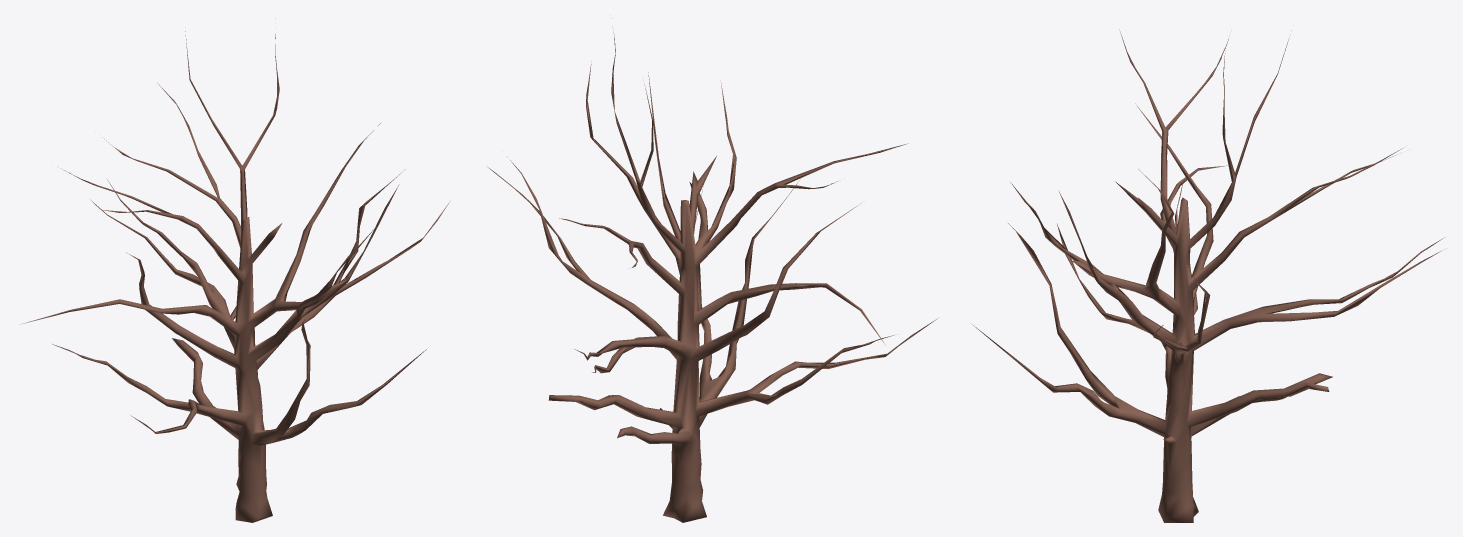
File: dead_tree_e.FBX
The picture shows the model from 3 angles, left to right: view 1: azimuth 30°, elevation 25°; view 2: azimuth 150°, elevation 25°; view 3: azimuth 270°, elevation 25°; orthographic projection. The views are drawn at different scales.
Visible parts, largest first — view 1: dead_tree_e_LOD0; view 2: dead_tree_e_LOD0; view 3: dead_tree_e_LOD0.
Boxes of the visible parts, x1,y1,x2,y2 form: dead_tree_e_LOD0: [21, 31, 449, 522]; dead_tree_e_LOD0: [488, 30, 937, 522]; dead_tree_e_LOD0: [973, 30, 1444, 522].
Size of what is drawn, in the model's own units: 1471 by 1618 by 1389.
